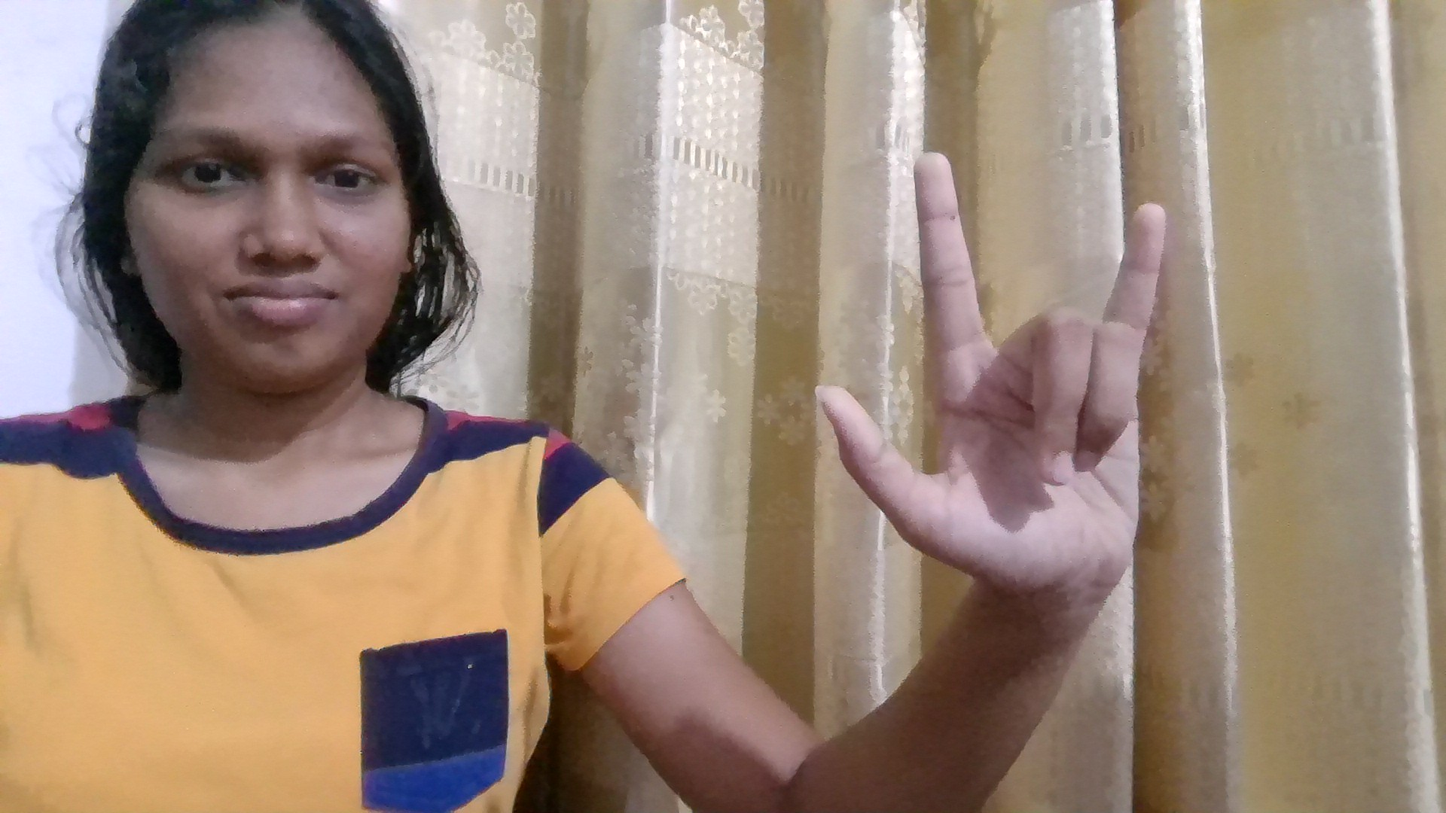I Love You: (712, 76, 1184, 664)
